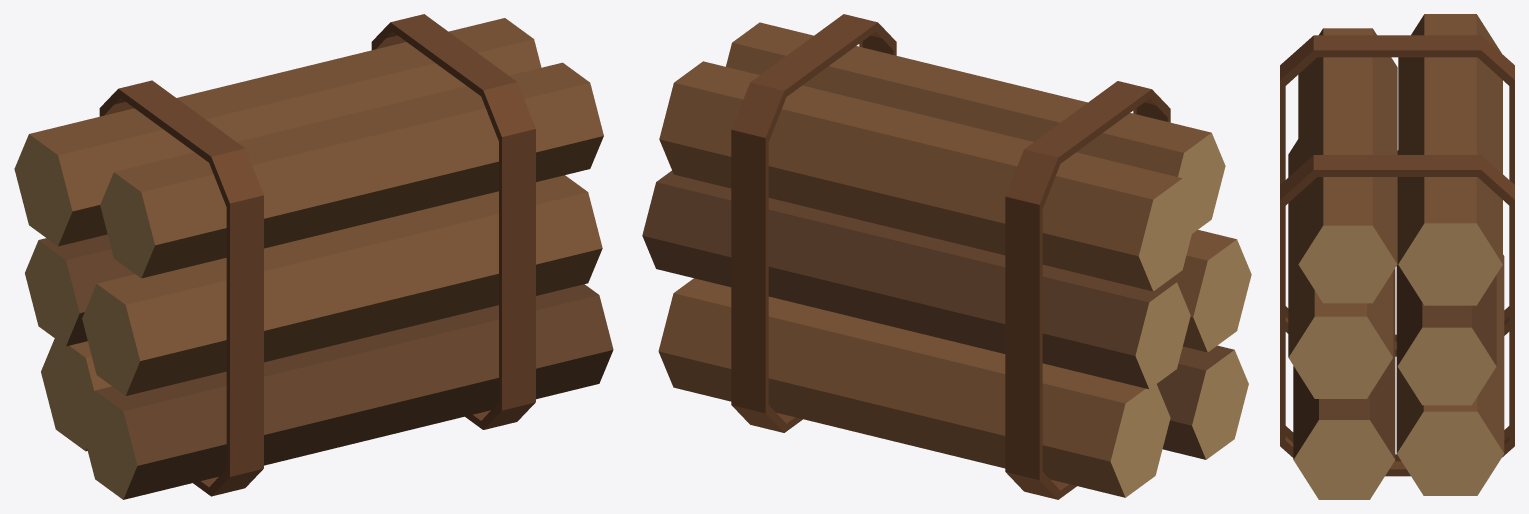
Rendered from logs_back.glb.
3 renders of one model, left to right at view 1: azimuth 30°, elevation 25°; view 2: azimuth 150°, elevation 25°; view 3: azimuth 270°, elevation 25°, orthographic. The views are drawn at different scales.
Parts seen in each view (by area): view 1: logs_back; view 2: logs_back; view 3: logs_back.
Part boxes in pixels (x1,y1,x2,y2): logs_back: (14, 14, 613, 499); logs_back: (642, 14, 1251, 499); logs_back: (1280, 14, 1514, 499).
Bounding box in the file's own units: 0.73 × 0.4775 × 0.3317.
